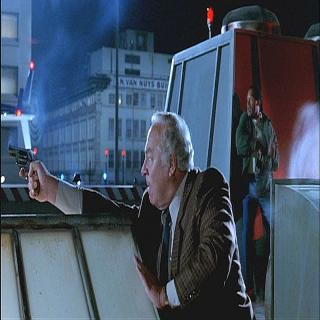gun: (5, 132, 44, 200)
